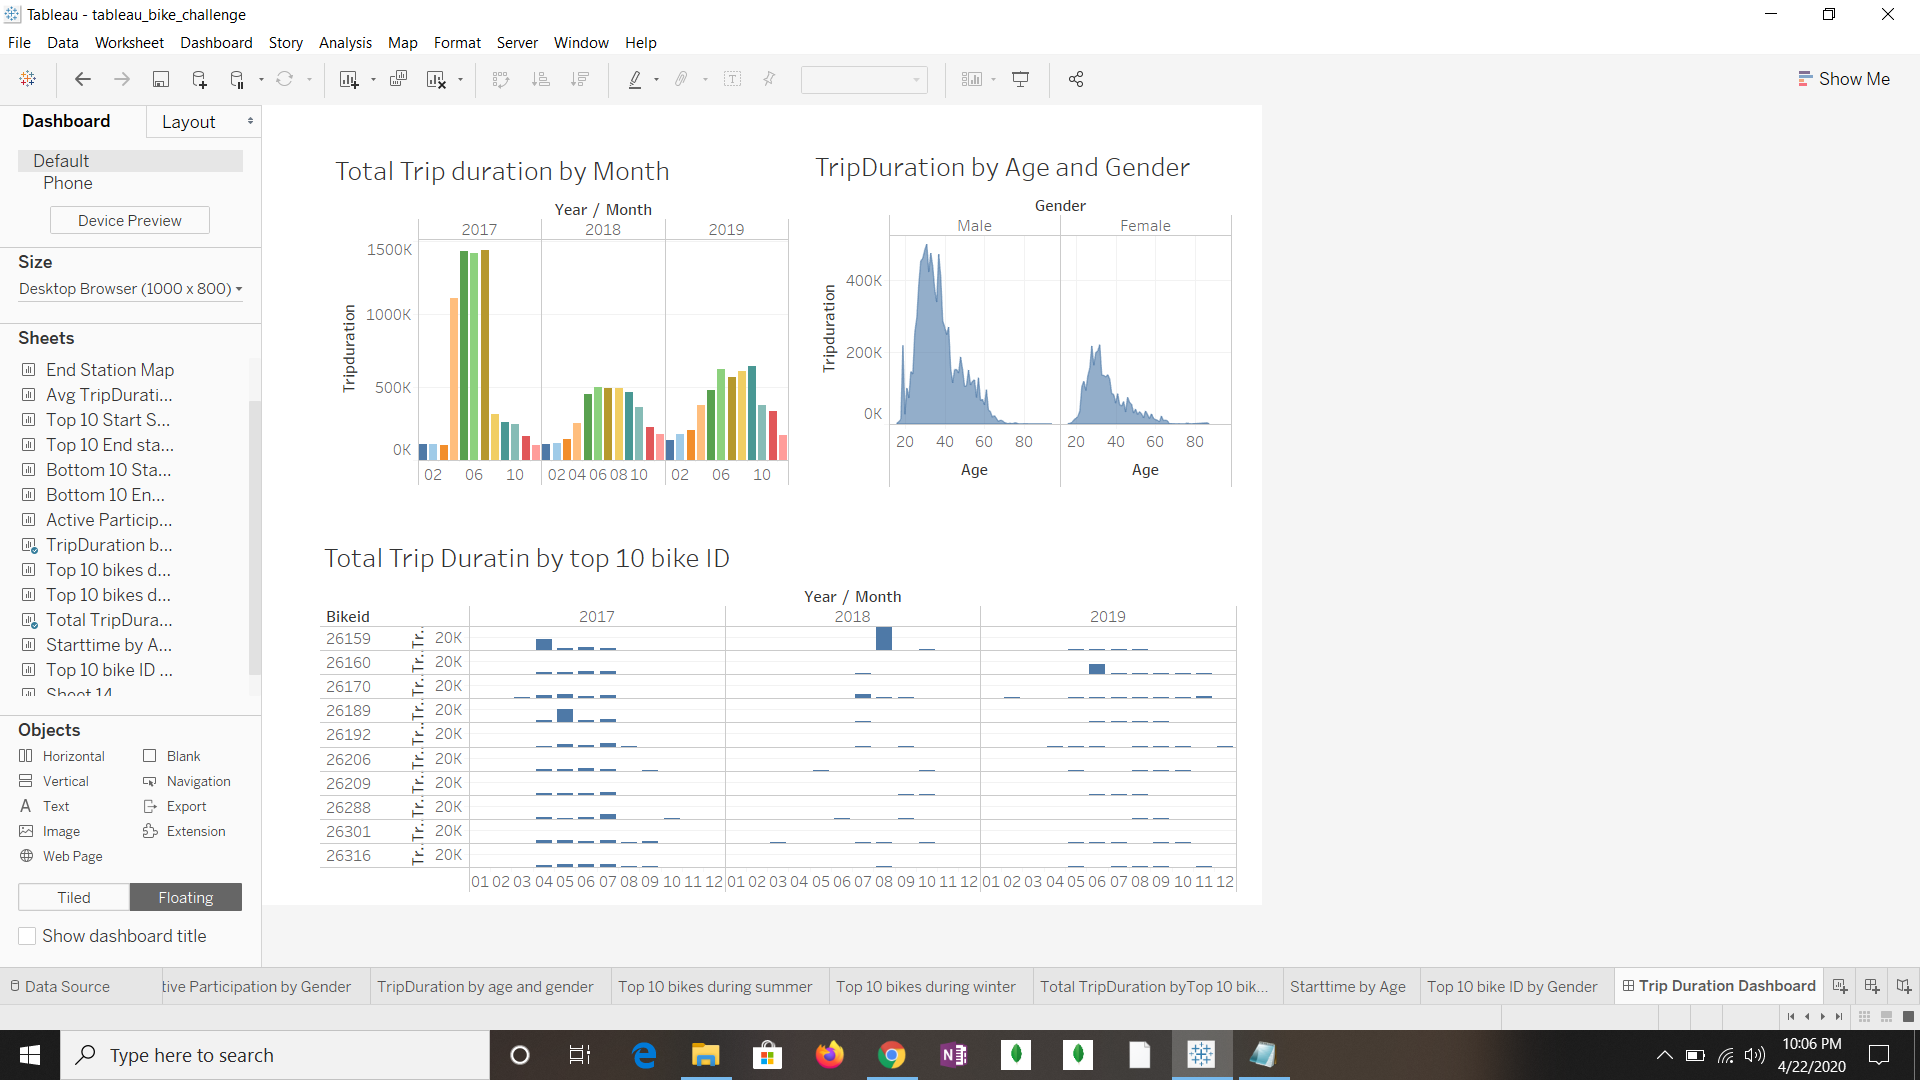

Layout of this report page (visuals, bound fields, positions):
{"tool":"tableau","page":{"name":"Trip Duration Dashboard","canvas":[1000,800],"ordinal":1},"visuals":[{"type":"worksheet","title":"TripDuration by age and gender","mark":"Area","rows":["tripduration"],"cols":["gender","age"],"box":[549,40,421,343]},{"type":"worksheet","title":"Total TripDuration","mark":"Automatic","rows":["tripduration"],"cols":["year","month"],"box":[69,44,458,337]},{"type":"worksheet","title":"Total TripDuration byTop 10 bikeID","mark":"Automatic","rows":["bikeid","tripduration"],"cols":["year","month"],"box":[58,431,917,357]}]}

Visuals, with their boxes on the page's 1000x800 design canvas (x1, y1, x2, y2). These are canvas units, not pixel positions in the 1920x1080 screenshot, which may show the page scaled, cropped or inside an application window:
"TripDuration by age and gender" worksheet (Area marks): left=549, top=40, right=970, bottom=383
"Total TripDuration" worksheet: left=69, top=44, right=527, bottom=381
"Total TripDuration byTop 10 bikeID" worksheet: left=58, top=431, right=975, bottom=788
